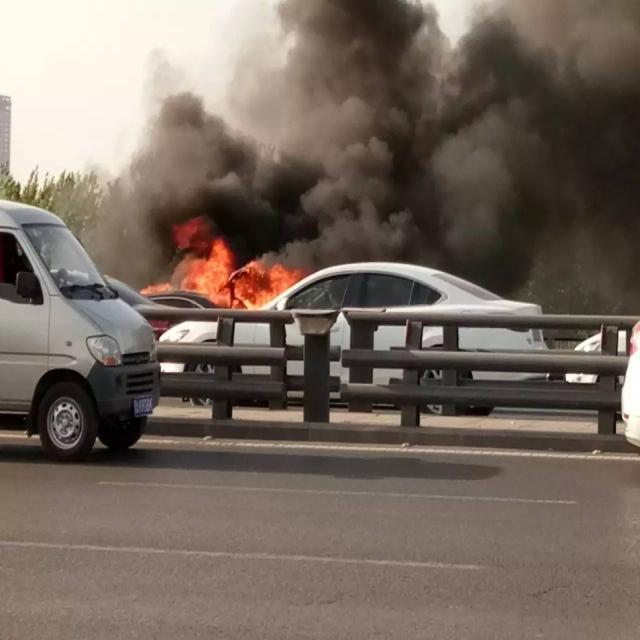Fire: (170, 215, 299, 308)
Smoke: (121, 0, 640, 212), (303, 212, 532, 275)
